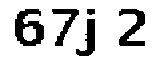2: (112, 8, 149, 50)
6: (10, 7, 45, 49)
7: (48, 6, 81, 48)
j: (78, 6, 103, 60)
